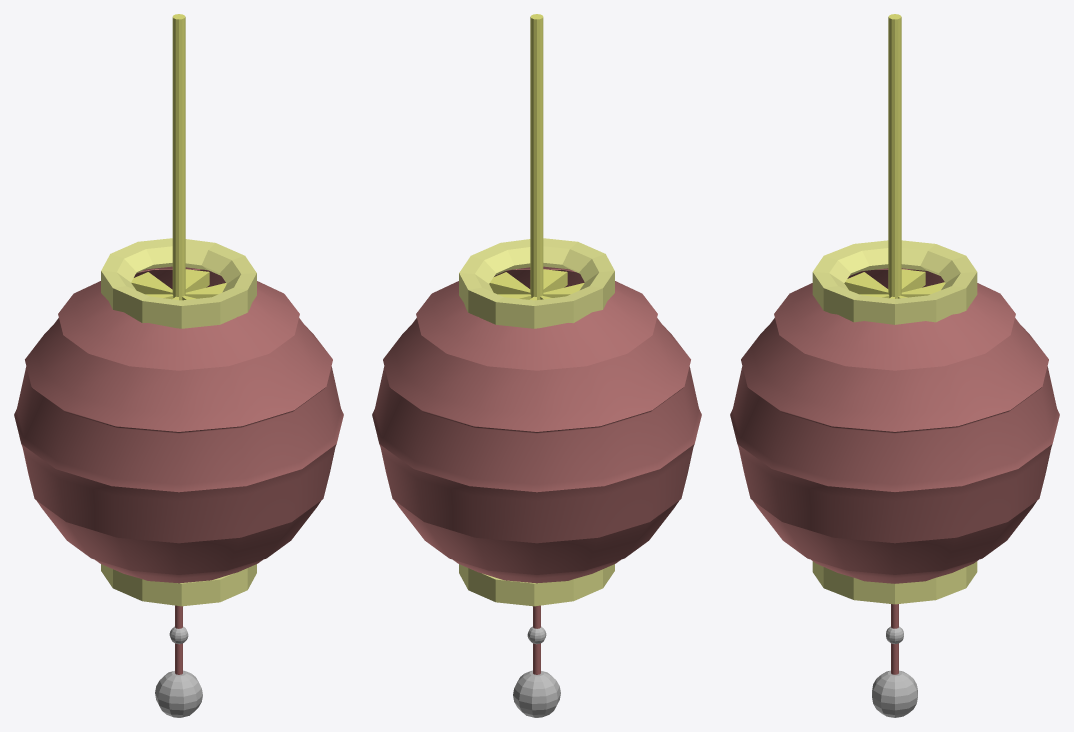
The model's file is lampara.fbx.
3 views of the same model, side by side, from view 1: azimuth 30°, elevation 25°; view 2: azimuth 150°, elevation 25°; view 3: azimuth 270°, elevation 25° (orthographic).
Visible parts, largest first — view 1: polySurface10, polySurface9, polySurface5, polySurface6, polySurface7; view 2: polySurface10, polySurface9, polySurface5, polySurface6, polySurface7; view 3: polySurface10, polySurface9, polySurface5, polySurface6, polySurface7.
Boxes of the visible parts, x1,y1,x2,y2 form: polySurface10: (14, 266, 343, 583); polySurface9: (101, 238, 256, 328); polySurface5: (131, 14, 226, 300); polySurface6: (101, 564, 256, 606); polySurface7: (155, 670, 202, 717); polySurface10: (372, 266, 701, 583); polySurface9: (459, 238, 614, 328); polySurface5: (489, 14, 584, 300); polySurface6: (459, 564, 614, 606); polySurface7: (513, 670, 560, 717); polySurface10: (730, 268, 1059, 583); polySurface9: (812, 240, 977, 324); polySurface5: (844, 14, 945, 298); polySurface6: (812, 561, 977, 604); polySurface7: (872, 670, 917, 717).
Size of the model in its own units: 13.88 by 32.58 by 13.96.
